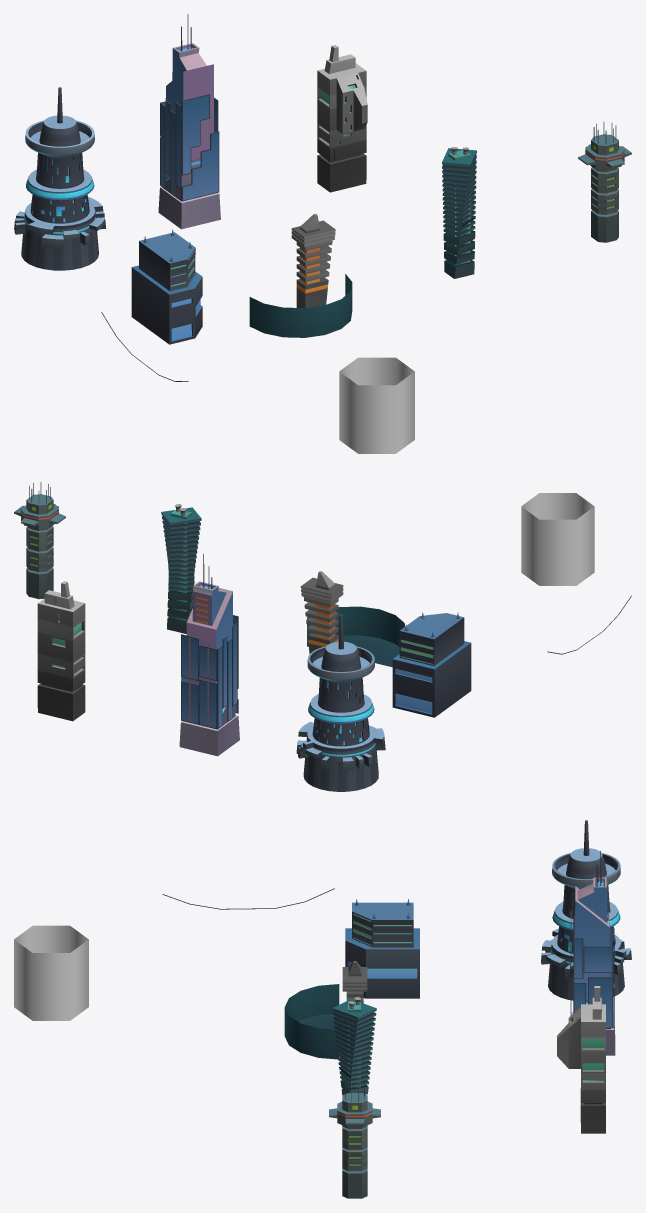
File: assets_t1_a5.fbx
3 renders of one model, top to bottom at view 1: azimuth 30°, elevation 25°; view 2: azimuth 150°, elevation 25°; view 3: azimuth 270°, elevation 25°, orthographic. The views are drawn at different scales.
Visible parts, largest first — view 1: Assey_a5_t1_7, Assey_a5_t1_8, Godray, Assey_a5_t1_5, Assey_a5_t1_6, Assey_a5_t1_3, Assey_a5_t1_2, Bg, Assey_a5_t1_4; view 2: Assey_a5_t1_7, Assey_a5_t1_8, Assey_a5_t1_5, Godray, Assey_a5_t1_6, Assey_a5_t1_3, Assey_a5_t1_2, Bg, Assey_a5_t1_4; view 3: Godray, Assey_a5_t1_5, Assey_a5_t1_7, Assey_a5_t1_8, Assey_a5_t1_6, Bg, Assey_a5_t1_3, Assey_a5_t1_2, Assey_a5_t1_4.
Part boxes in pixels (x1,y1,x2,y2): Assey_a5_t1_7: [14, 87, 105, 270]; Assey_a5_t1_8: [158, 14, 220, 229]; Godray: [339, 357, 414, 453]; Assey_a5_t1_5: [131, 229, 202, 344]; Assey_a5_t1_6: [317, 45, 367, 192]; Assey_a5_t1_3: [442, 147, 476, 278]; Assey_a5_t1_2: [578, 122, 631, 242]; Bg: [249, 274, 352, 337]; Assey_a5_t1_4: [291, 213, 335, 307]; Assey_a5_t1_7: [296, 614, 385, 791]; Assey_a5_t1_8: [179, 553, 239, 756]; Assey_a5_t1_5: [392, 612, 471, 717]; Godray: [521, 493, 594, 585]; Assey_a5_t1_6: [37, 581, 85, 721]; Assey_a5_t1_3: [161, 503, 201, 633]; Assey_a5_t1_2: [14, 482, 65, 599]; Bg: [307, 606, 405, 667]; Assey_a5_t1_4: [300, 571, 343, 653]; Godray: [14, 925, 88, 1020]; Assey_a5_t1_5: [345, 899, 419, 998]; Assey_a5_t1_7: [541, 820, 631, 1000]; Assey_a5_t1_8: [570, 851, 615, 1055]; Assey_a5_t1_6: [557, 986, 605, 1133]; Bg: [284, 984, 339, 1059]; Assey_a5_t1_3: [332, 997, 376, 1095]; Assey_a5_t1_2: [329, 1080, 380, 1198]; Assey_a5_t1_4: [342, 961, 367, 1003].
Bounding box in the file's own units: 907 × 330 × 915.
